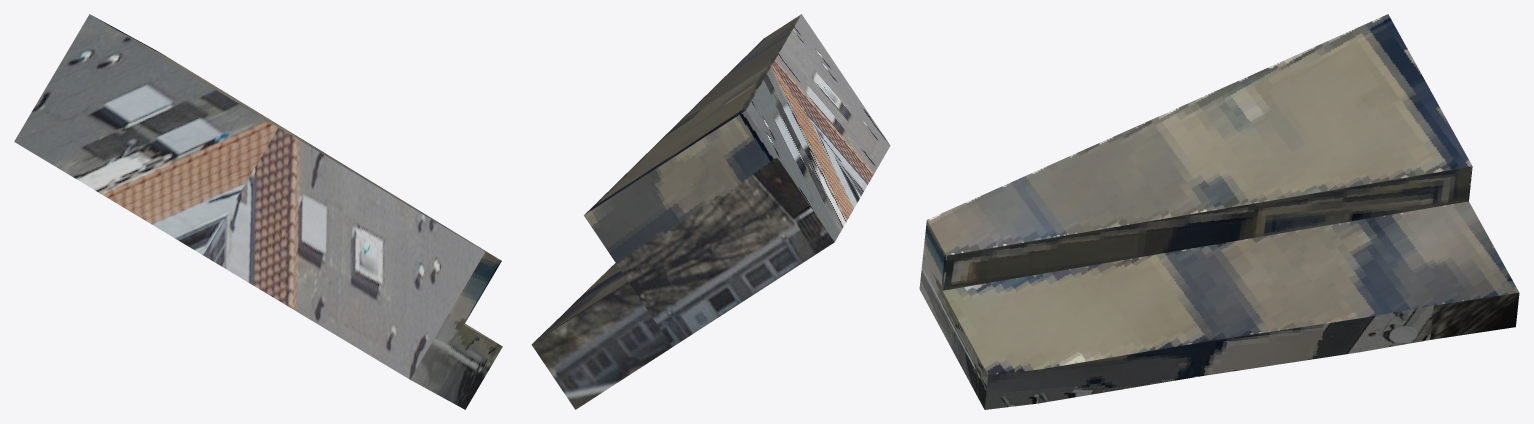
The picture shows the model from 3 angles, left to right: view 1: azimuth 30°, elevation 25°; view 2: azimuth 150°, elevation 25°; view 3: azimuth 270°, elevation 25°; orthographic projection. The views are drawn at different scales.
Parts seen in each view (by area): view 1: BAG_0599100010057617 (×3); view 2: BAG_0599100010057617 (×3); view 3: BAG_0599100010057617 (×6).
Part boxes in pixels (x1,y1,x2,y2): BAG_0599100010057617 (×3): (14,14,502,409); BAG_0599100010057617 (×3): (531,14,890,409); BAG_0599100010057617 (×6): (919,14,1519,409).
Bounding box in the file's own units: 11.88 × 11.29 × 20.09.
6 materials, 6 textured.
